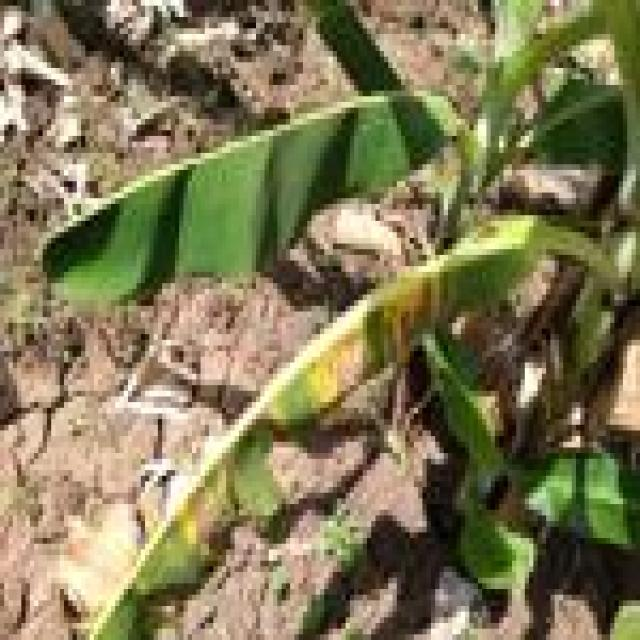Early_rust: (64, 226, 537, 640)
